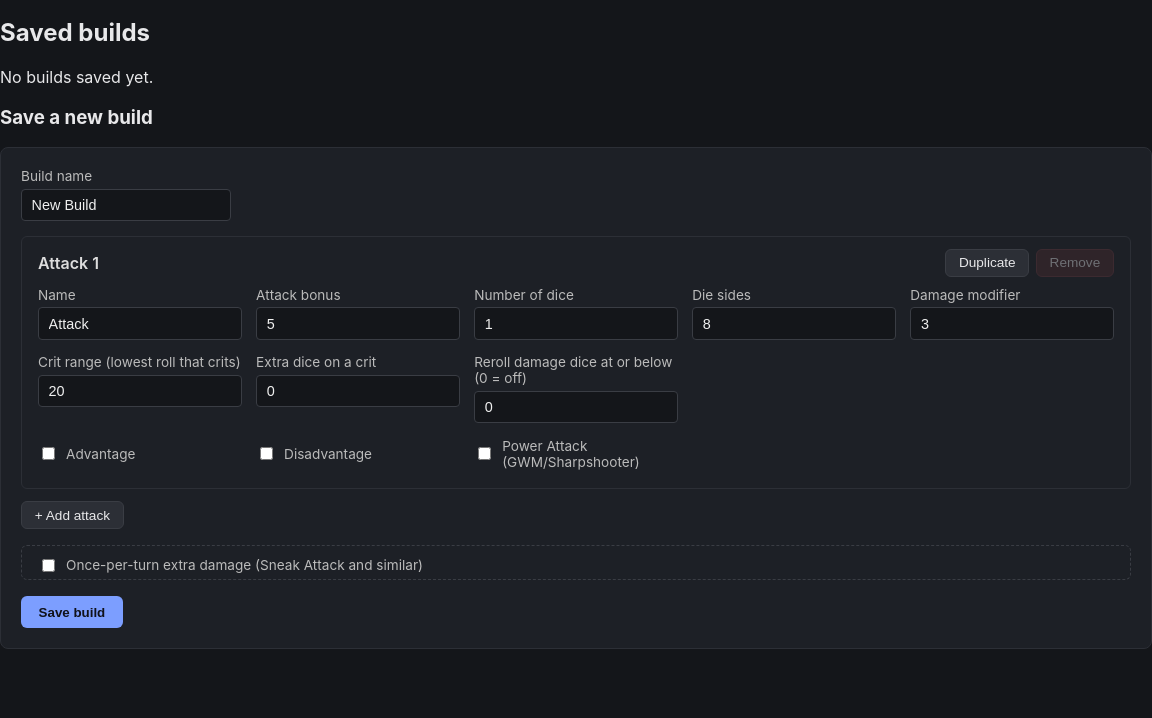
Test case: BuildsPanel › saves a new build with all its attacks, resets the form and refreshes
Expected: the text "No builds saved yet." is shown, [0,67,153,87]
Replace the text in the field labelled "Build name" with "Rogue" at (126, 205), box [21,189,232,221]
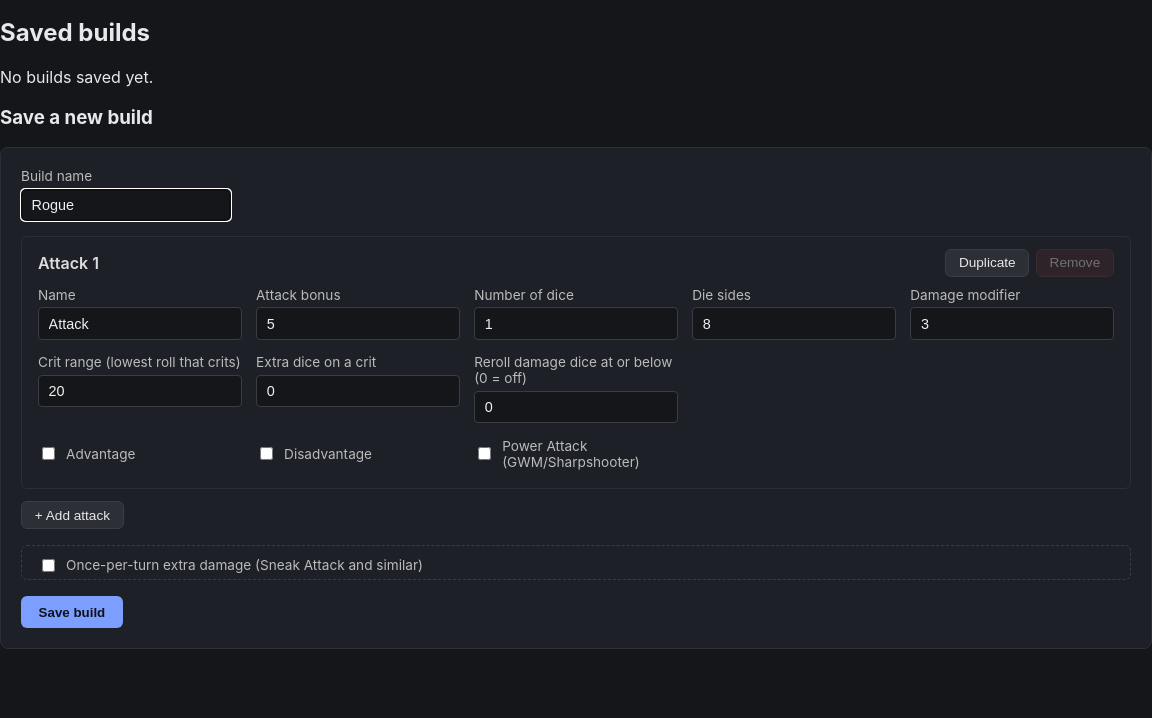
Click the button "Duplicate".
click(987, 263)  # box [945,249,1029,277]
(page scrolled)
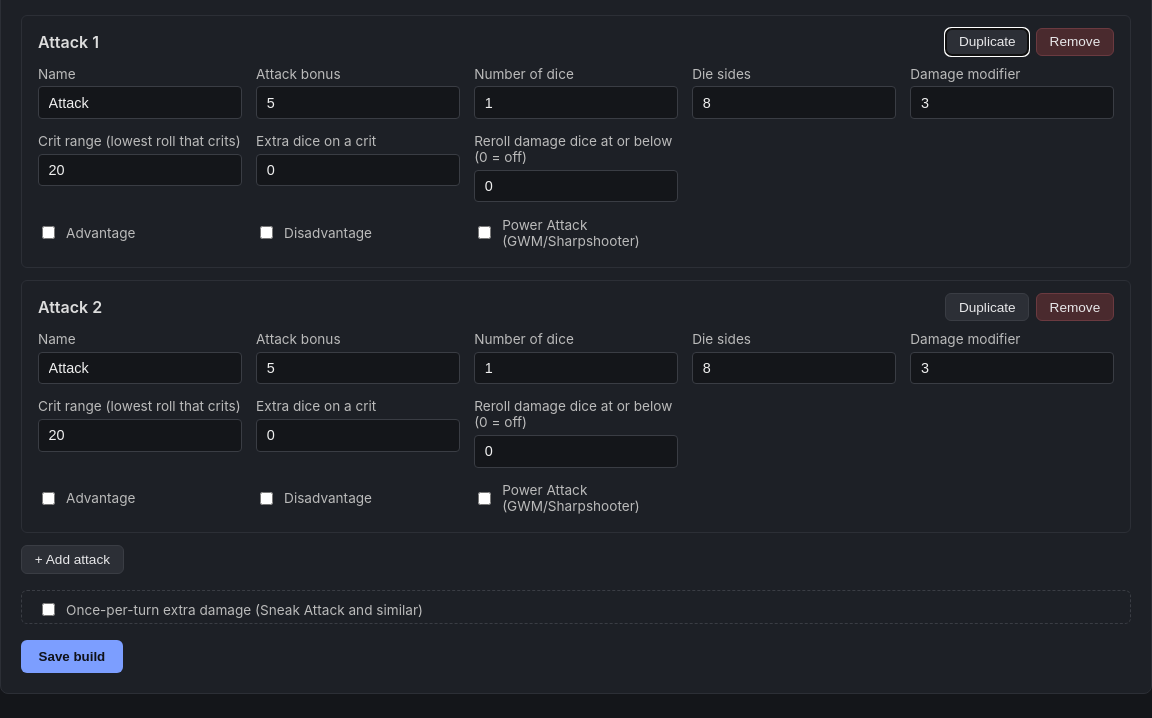
Click the button "Save build".
click(72, 656)  # box [21,640,123,673]
(page scrolled)
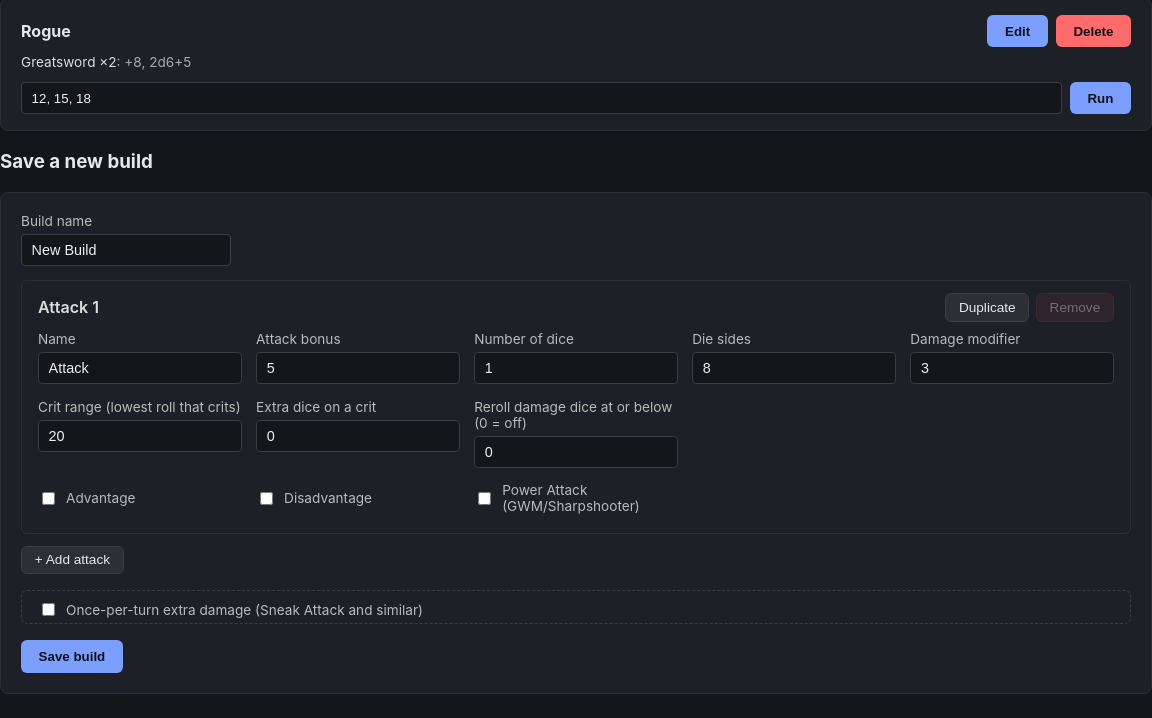
Expected: the text "Rogue" is shown, [21,21,71,41]
Expected: the field labelled "Build name" holds "New Build", [21,234,232,266]
Expected: the number of elements "Attack 1" is 1, [21,280,1131,534]
